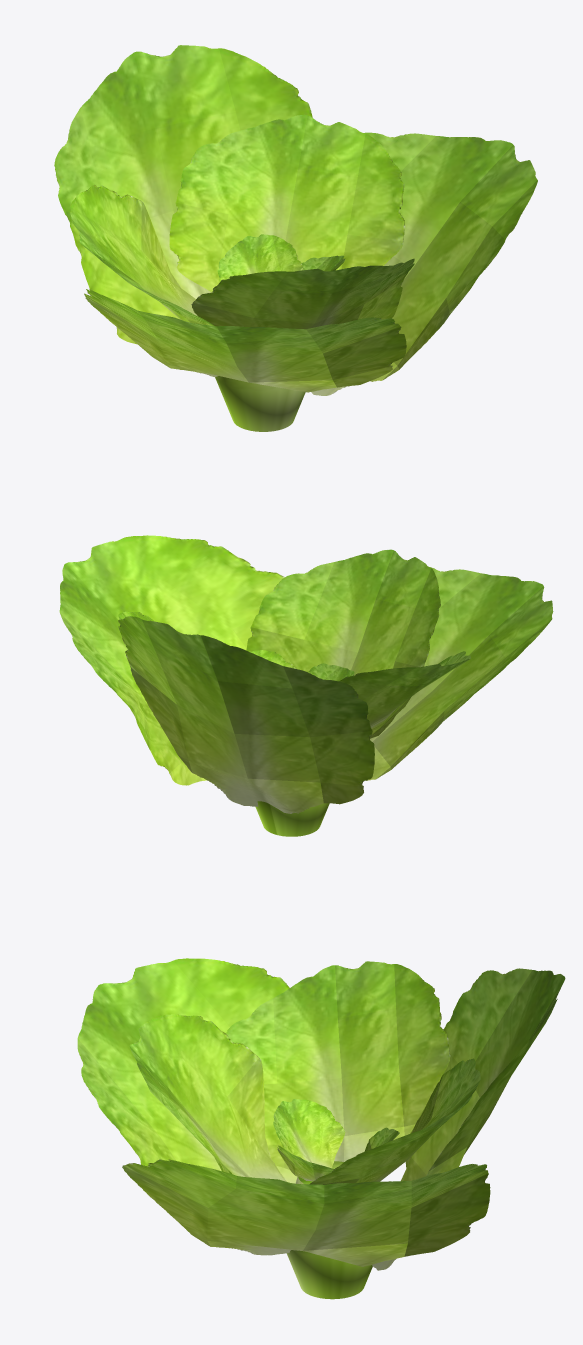
The model's file is lettuce (1).glb.
3 views of the same model, one above another, from view 1: azimuth 30°, elevation 25°; view 2: azimuth 150°, elevation 25°; view 3: azimuth 270°, elevation 25° (orthographic). The views are drawn at different scales.
Parts seen in each view (by area): view 1: Marul; view 2: Marul; view 3: Marul.
Boxes of the visible parts, box(x1,y1,x2,y2) form: Marul: box(54, 45, 537, 431); Marul: box(59, 535, 553, 836); Marul: box(77, 958, 565, 1299).
Size of the model in its own units: 0.3462 by 0.202 by 0.3189.
1 material, 1 textured.
